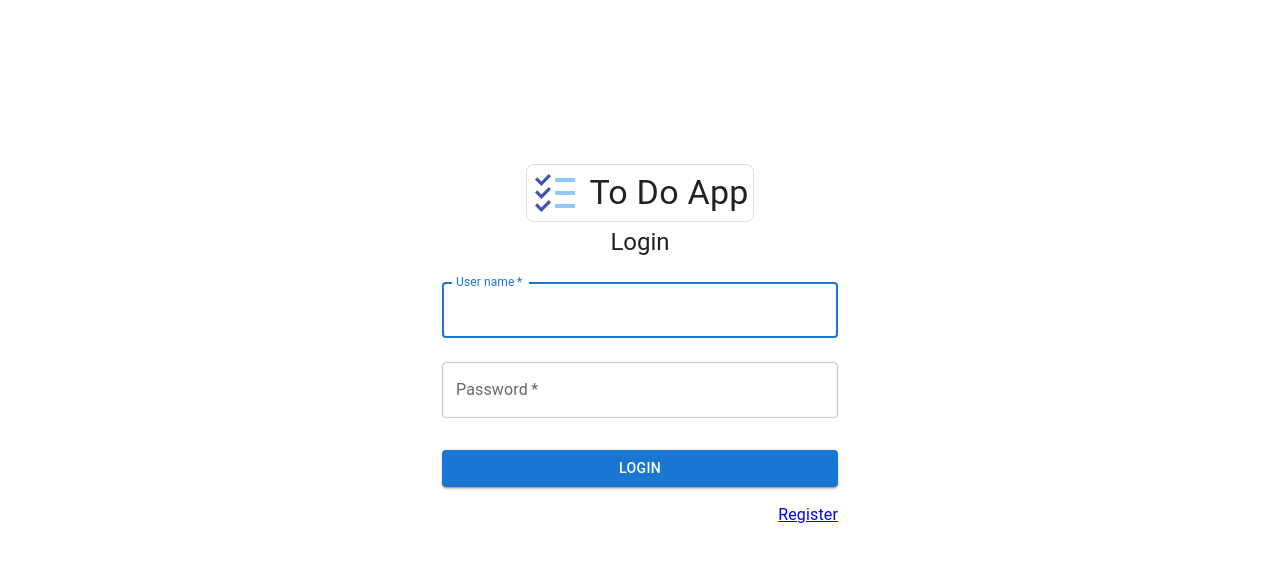
Test: Login Component › should show error message on login failure
In the field labelled "User name *": (640, 310) [442, 282, 838, 338], type "wronguser"
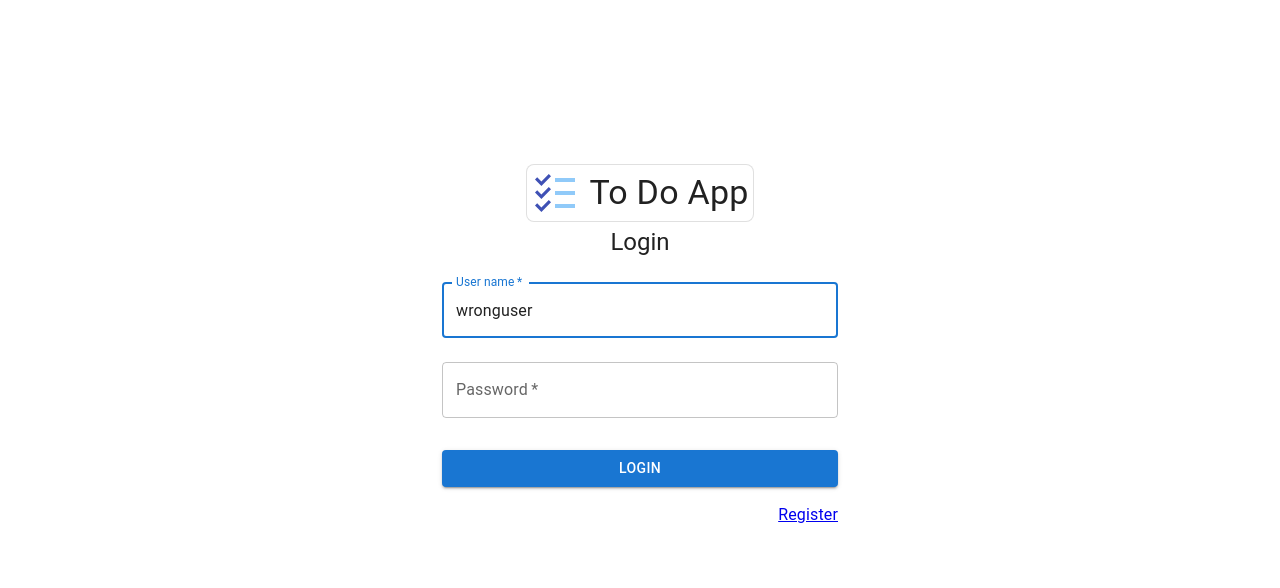
In the password field labelled "Password *": (640, 390) [442, 362, 838, 418], type "wrongpassword"
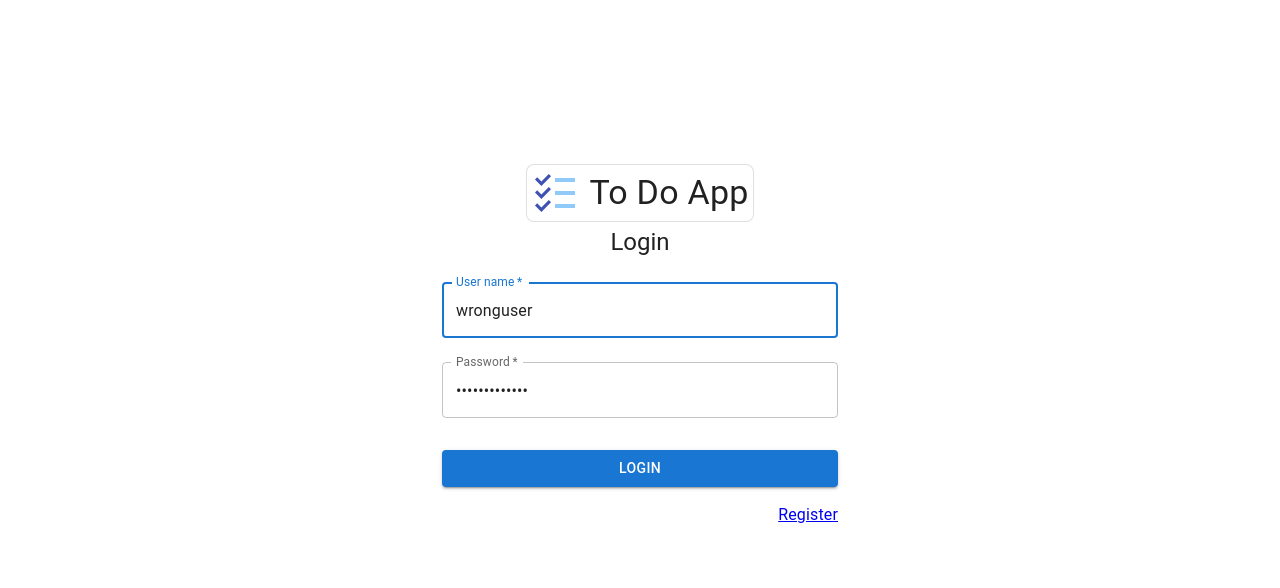
Click the button "Login": (640, 468) [442, 450, 838, 486]
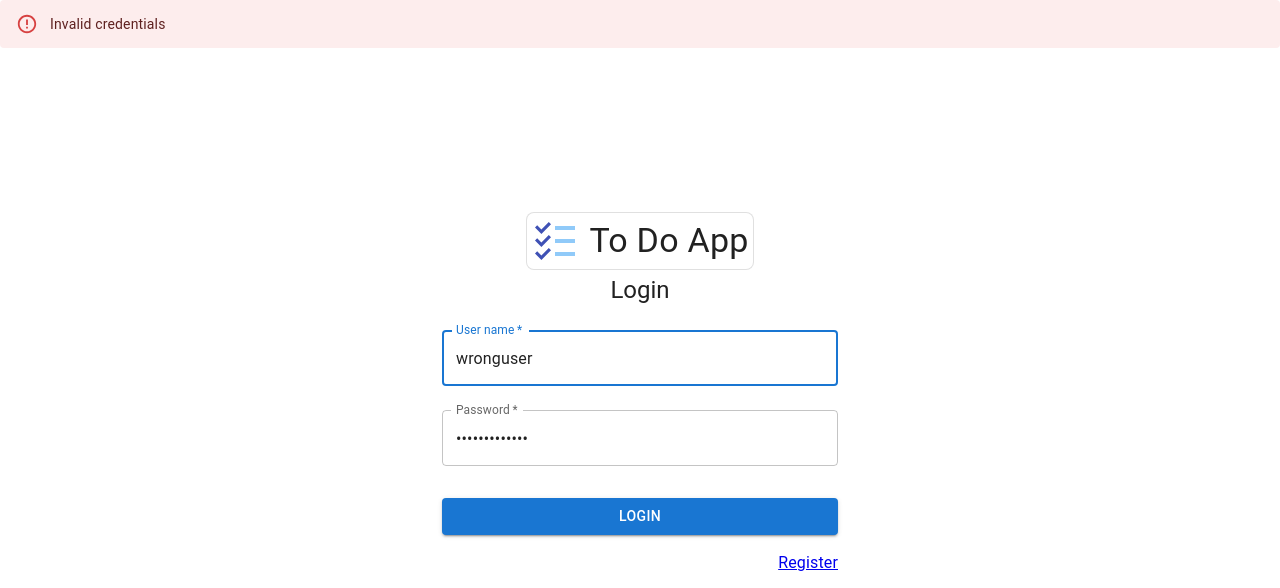
Check: the text "Invalid credentials" is shown, box [50, 16, 166, 32]
